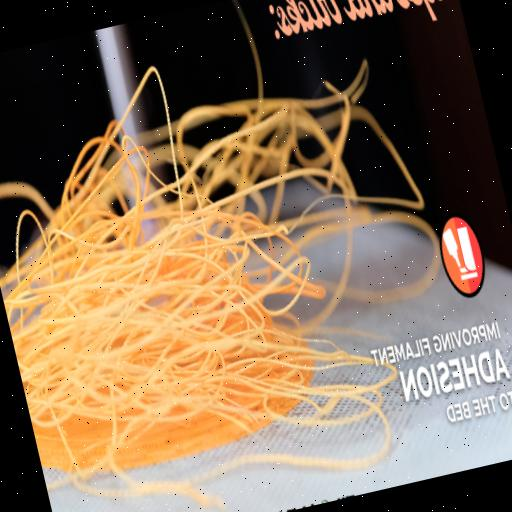spaghetti: (0, 14, 466, 512)
